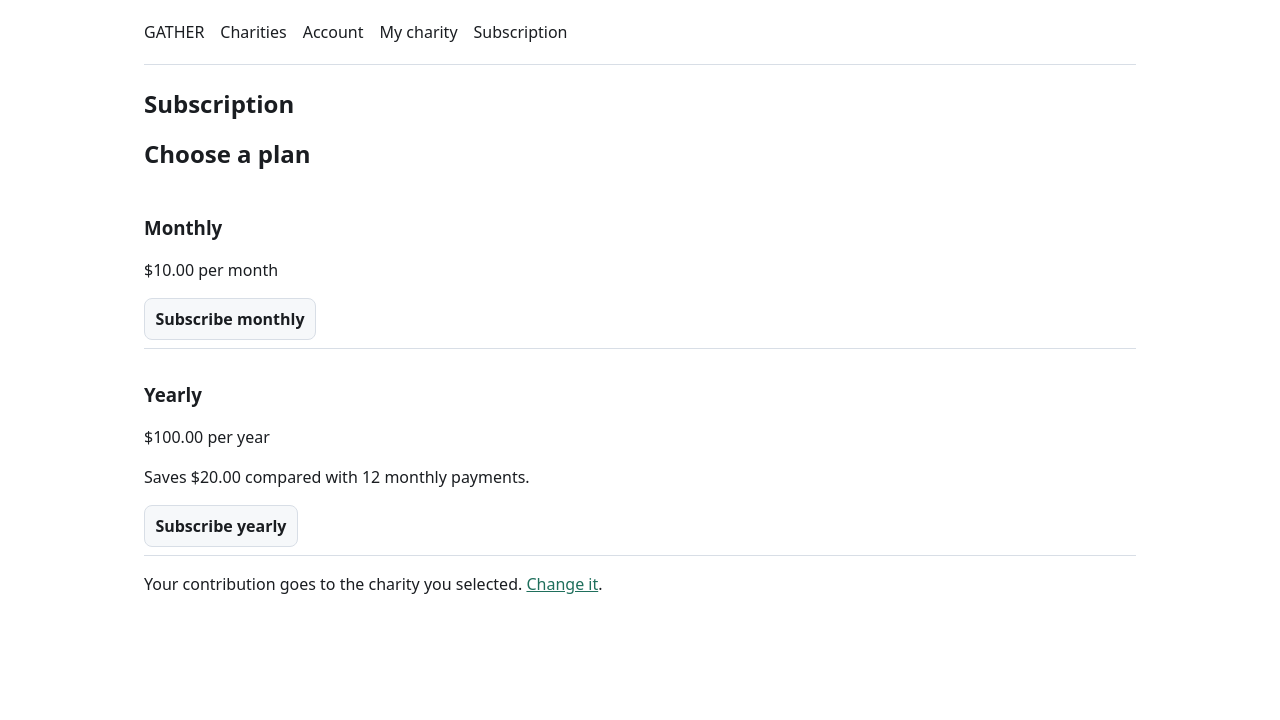
Test case: starting Checkout › the server refuses with {"status":422,"code":"selected_charity_unavailable"}: the user is told what to do, and is NOT sent to Stripe
This screenshot has width=1280, height=720.
Expected: the list named "Plans" is shown, [144,189,1136,556]
Click the button "Subscribe monthly" at [230, 319], box [144,298,316,340]
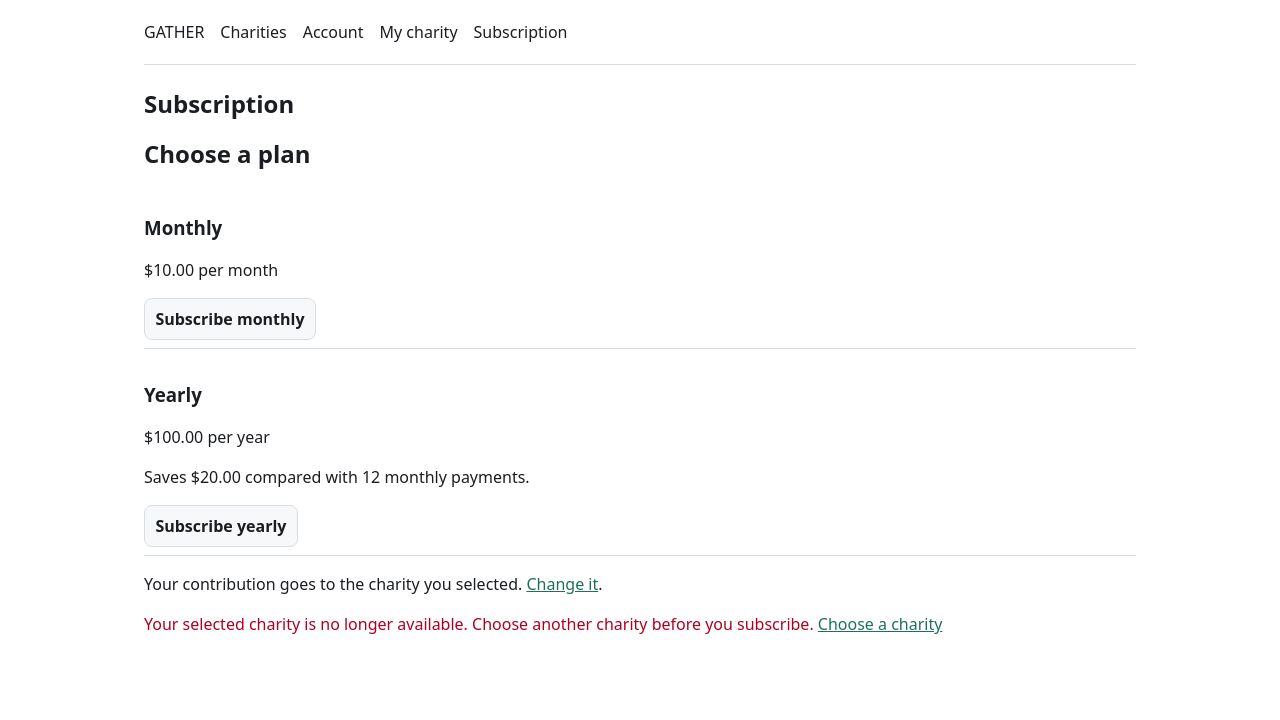
Now the number of links "Choose a charity" is 1, box [818,614,942,636]
